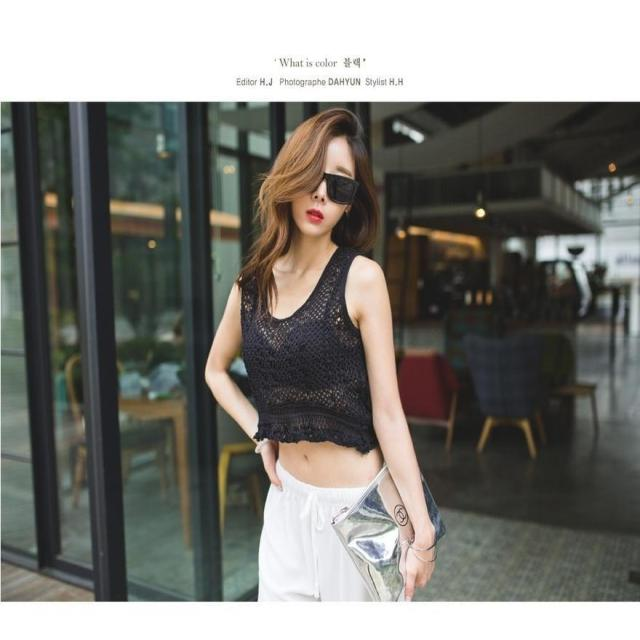trousers: (259, 462, 409, 602)
vest: (243, 250, 369, 453)
